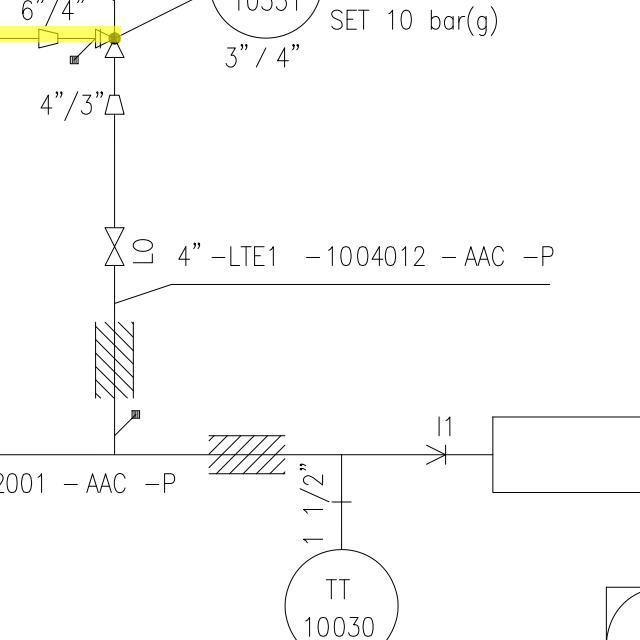GV: (100, 221, 127, 272)
SP: (35, 23, 63, 52), (100, 92, 131, 118)
